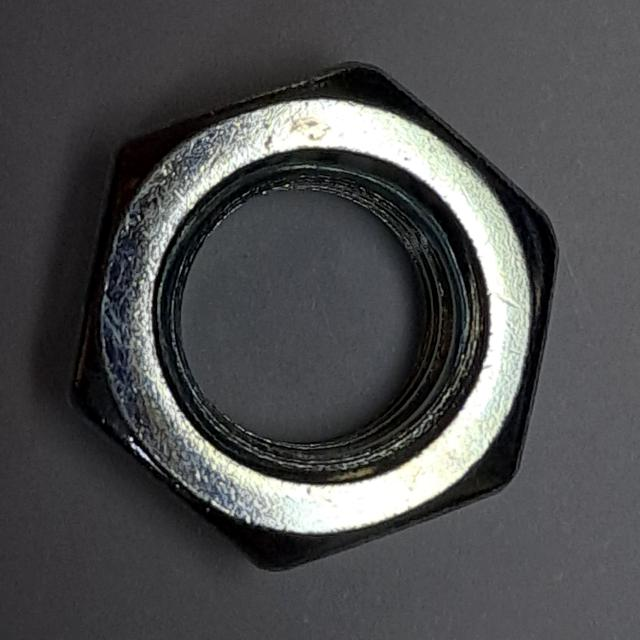Excellent: (53, 49, 575, 587)
